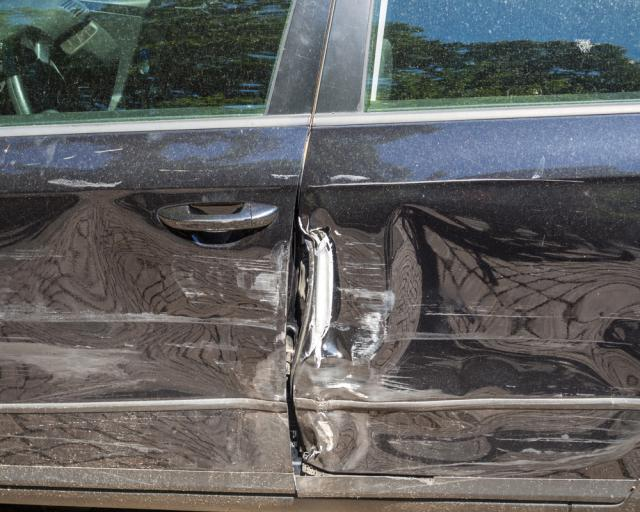dent: (304, 207, 640, 473), (0, 195, 285, 394)
scratch: (39, 147, 128, 189), (307, 175, 591, 188)
